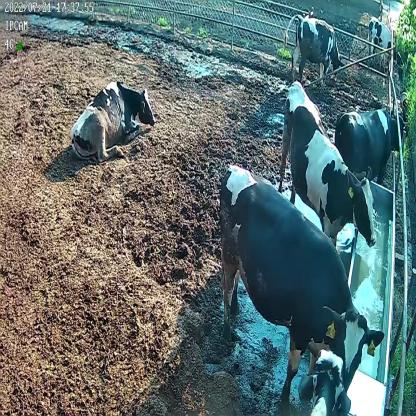cow: (216, 166, 385, 405), (278, 79, 378, 256), (69, 79, 155, 164), (333, 106, 407, 184), (281, 11, 343, 87), (367, 15, 397, 67)
